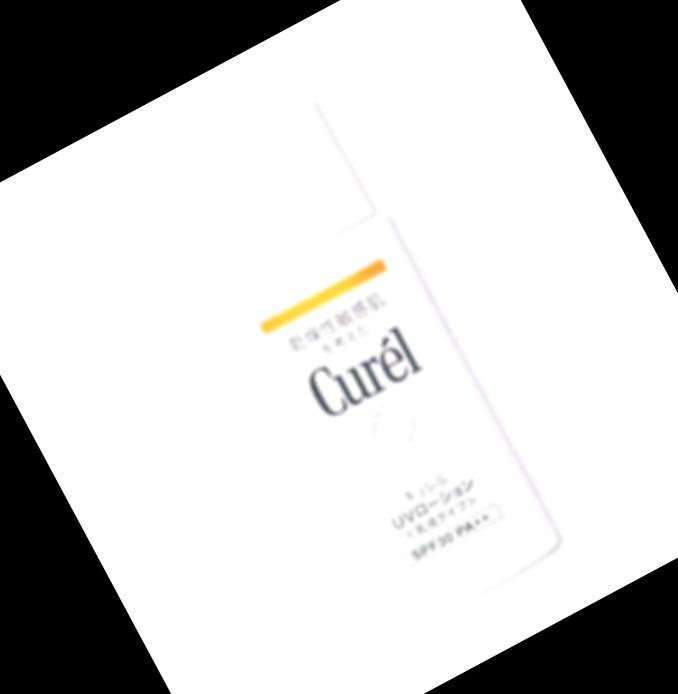cosmetic: (150, 89, 565, 634)
